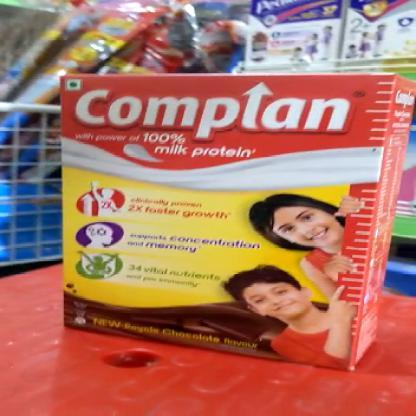Complan Royal Chocolate: (63, 74, 388, 368)
